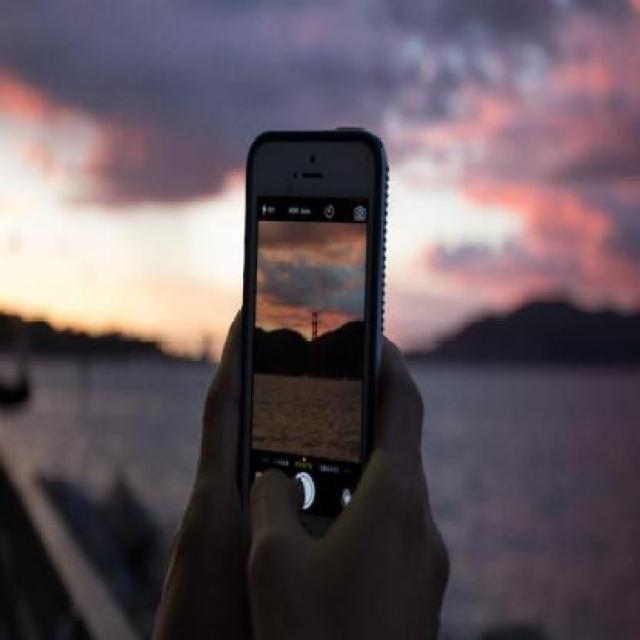phone: (222, 129, 400, 560)
